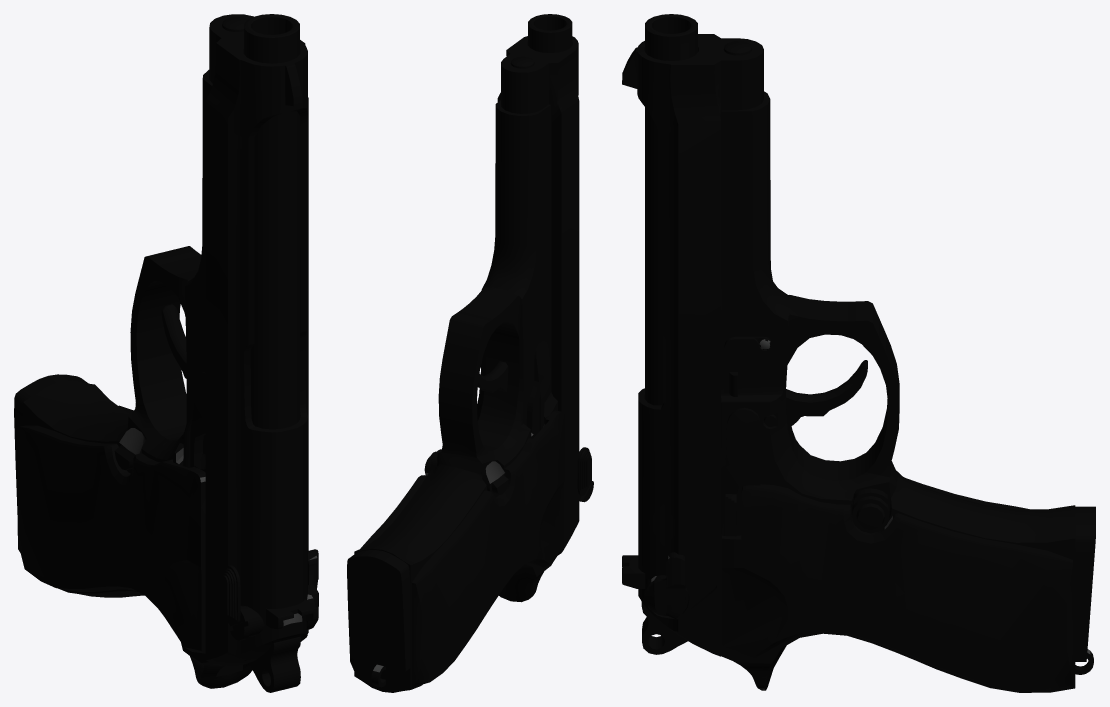
The model's file is Beretta92FS.fbx.
The picture shows the model from 3 angles, left to right: view 1: azimuth 30°, elevation 25°; view 2: azimuth 150°, elevation 25°; view 3: azimuth 270°, elevation 25°; orthographic projection. The views are drawn at different scales.
Parts seen in each view (by area): view 1: asset_Beretta92FS.001; view 2: asset_Beretta92FS.001; view 3: asset_Beretta92FS.001.
Boxes of the visible parts, <box> form: asset_Beretta92FS.001: <box>14,14,318,692</box>; asset_Beretta92FS.001: <box>347,14,593,692</box>; asset_Beretta92FS.001: <box>622,14,1095,692</box>.
Bounding box in the file's own units: 0.0195 × 0.1338 × 0.0867.
